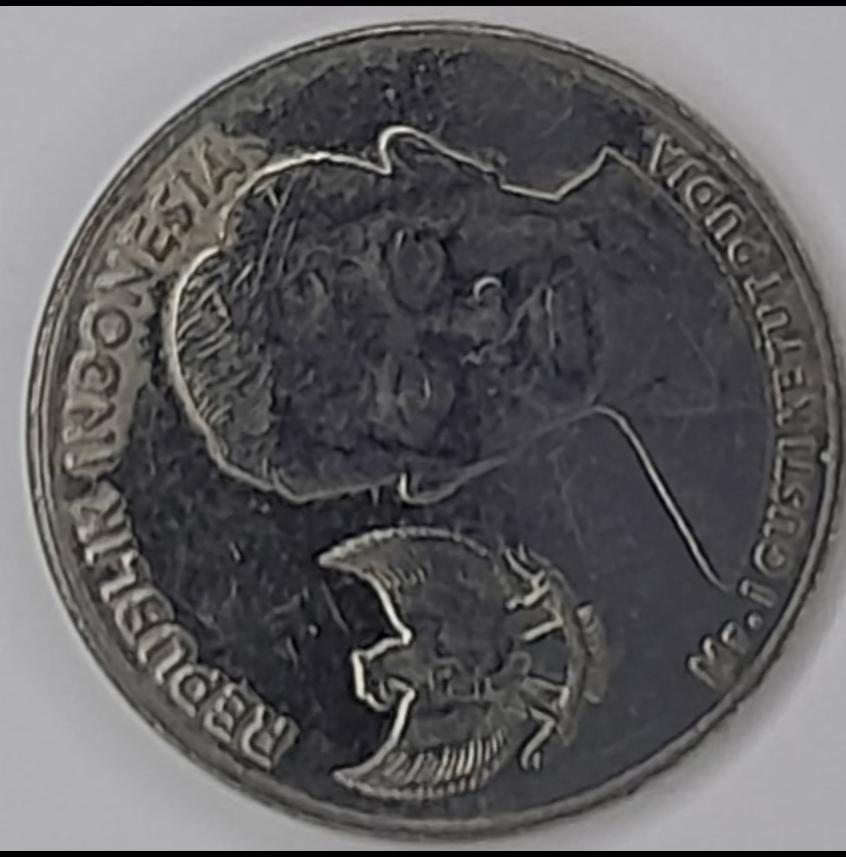coin_1000_e2016: (14, 17, 835, 857)
